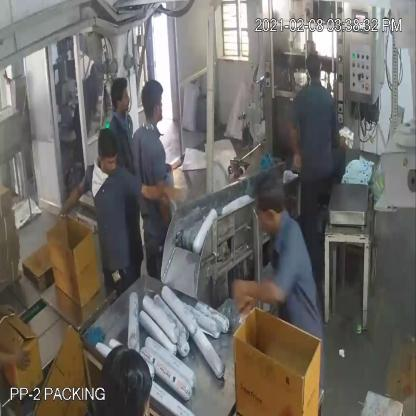no_glove: (217, 269, 282, 318), (48, 174, 95, 230), (135, 177, 190, 210), (0, 332, 31, 368)
